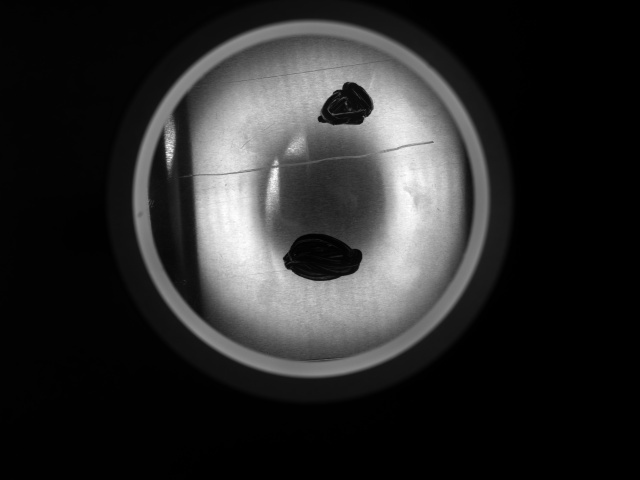ca_shang: (161, 133, 435, 189), (189, 59, 389, 100)
zang_wu: (280, 227, 365, 283), (313, 81, 377, 127)
